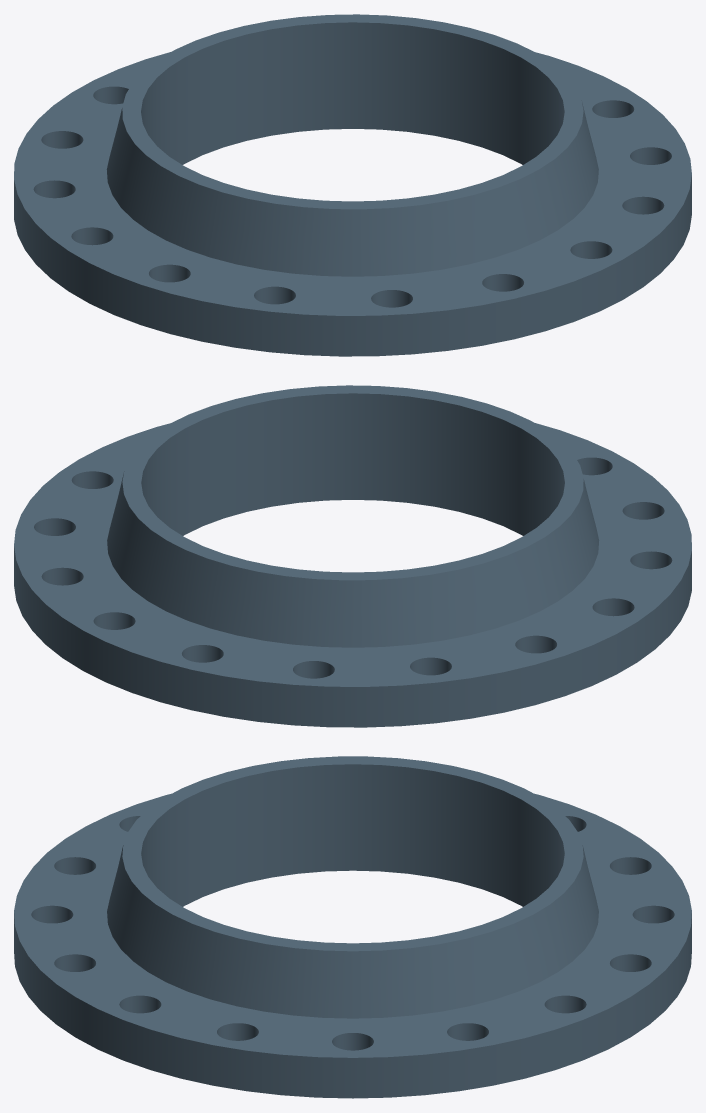
The model's file is flanec-vorotnikovyj-DN300-PN25.glb.
The picture shows the model from 3 angles, top to bottom: view 1: azimuth 30°, elevation 25°; view 2: azimuth 150°, elevation 25°; view 3: azimuth 270°, elevation 25°; orthographic projection.
Parts seen in each view (by area): view 1: Open CASCADE STEP translator 7.9 97; view 2: Open CASCADE STEP translator 7.9 97; view 3: Open CASCADE STEP translator 7.9 97.
Boxes of the visible parts, left/top/right/bottom form: Open CASCADE STEP translator 7.9 97: left=14, top=14, right=691, bottom=356; Open CASCADE STEP translator 7.9 97: left=14, top=385, right=691, bottom=727; Open CASCADE STEP translator 7.9 97: left=14, top=756, right=691, bottom=1098.
Size of the model in its own units: 485 by 84 by 485.
